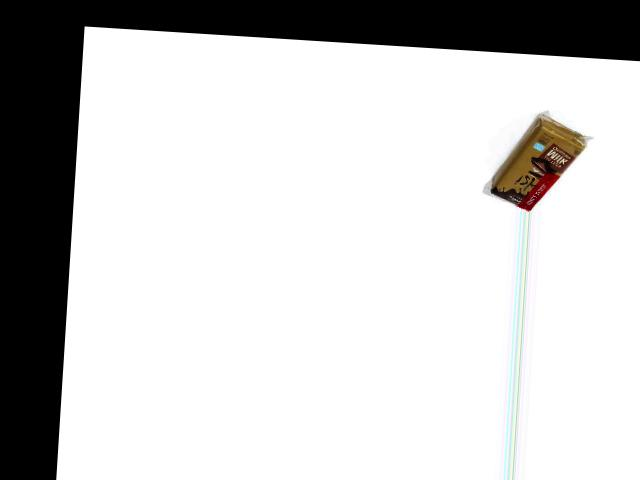chocolate: (487, 112, 599, 213)
